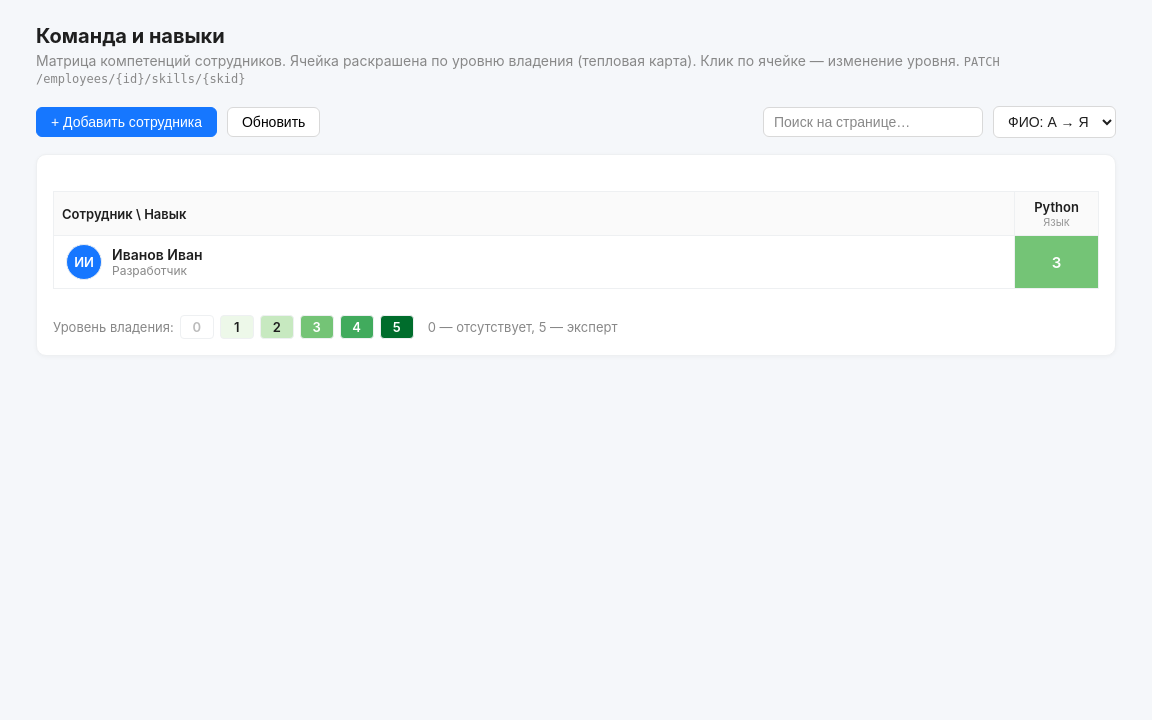
it: TeamPage › с правом employee.create показывает кнопку и открывает форму
Click the button "+ Добавить сотрудника" at (126, 122), box left=36, top=107, right=217, bottom=137
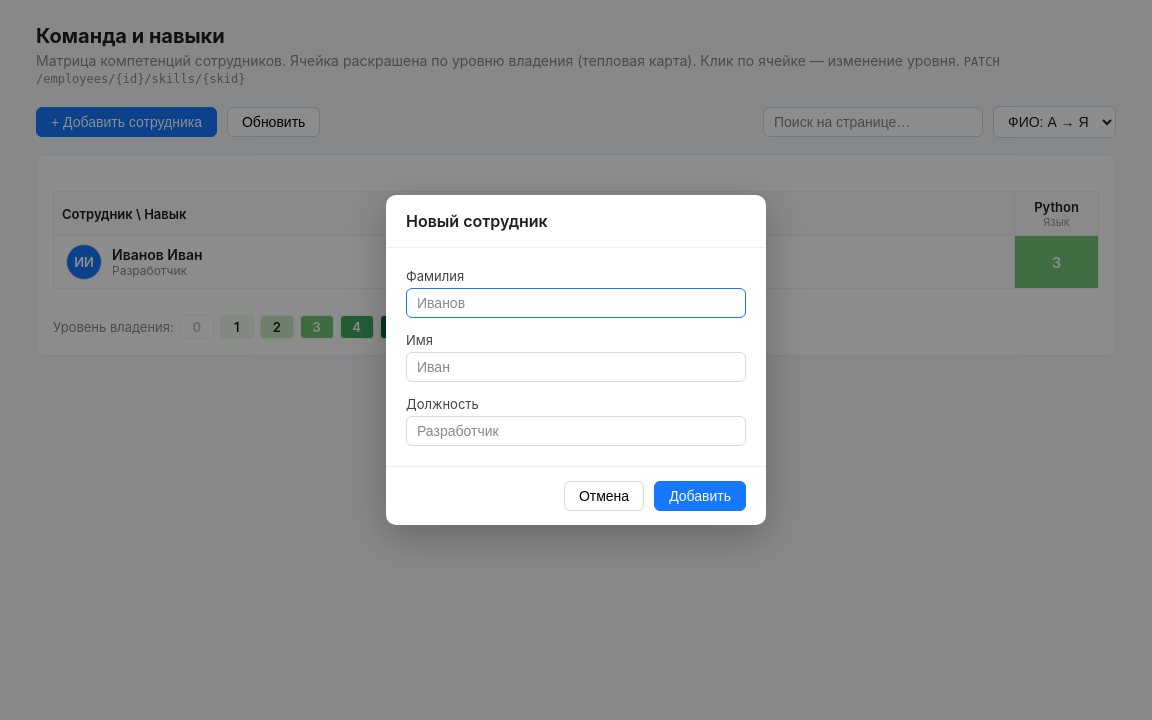
Expected: the text "Новый сотрудник" is shown, left=386, top=195, right=766, bottom=248
